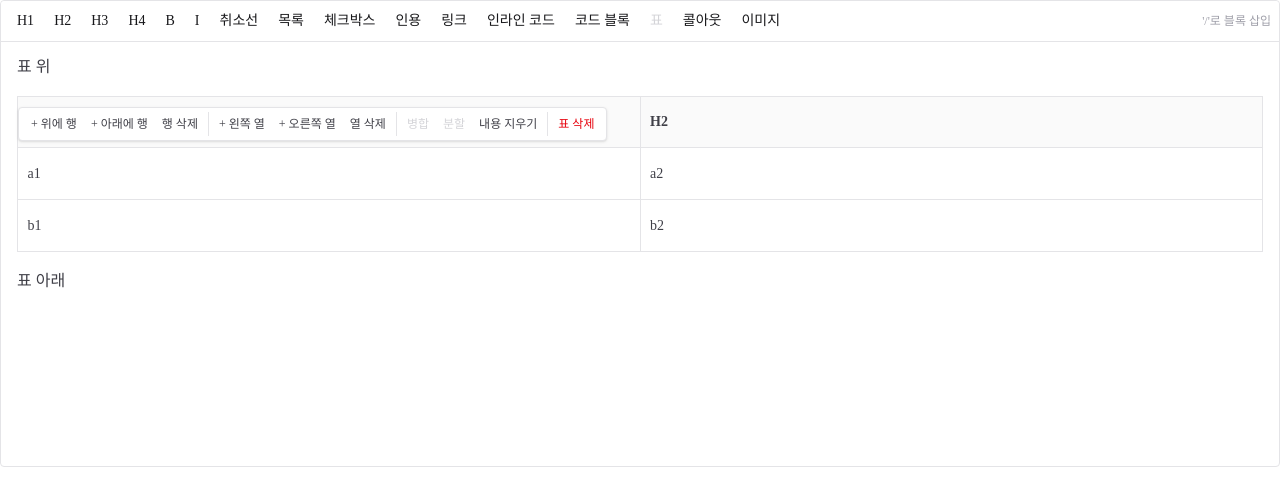
Test: 툴바 버튼이 글을 바꾼다 › 버튼을 눌러도 에디터 커서가 그대로 남아 이어서 입력할 수 있다
Check: the field labelled "표 위 H1 H2 a1 a2 b1 b2 표 아래" is shown, box [17,58,1262,289]
Check: the element named "표 편집" is shown, box [18,107,607,141]
Click the button with aria-label "셀 내용 지우기".
click(508, 124)  # box [473,112,543,136]
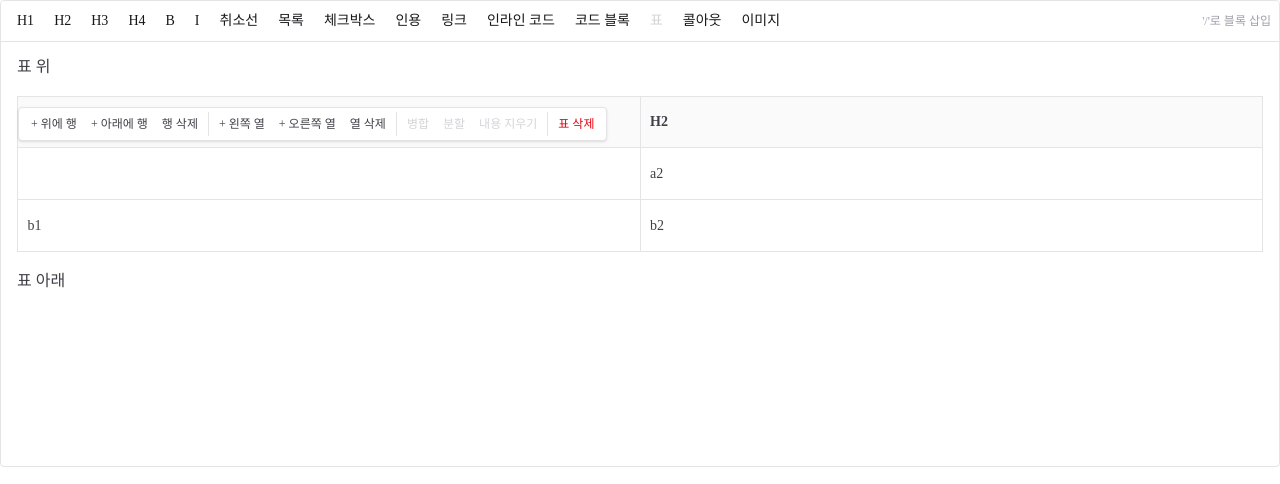
Type keys "새 글"
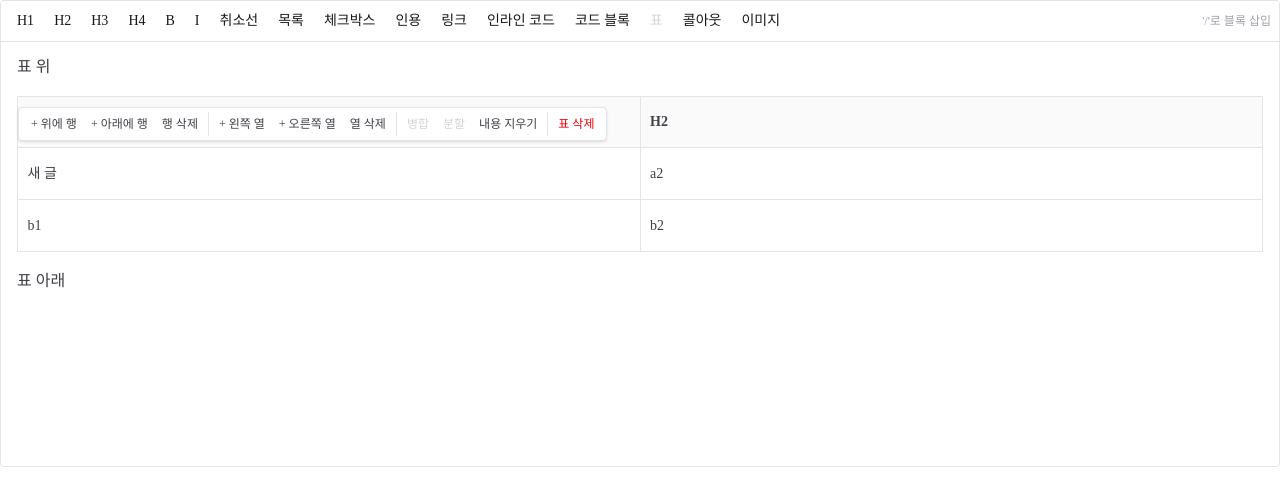
Check: the cell "새 글" is shown, box [18,148,640,200]
